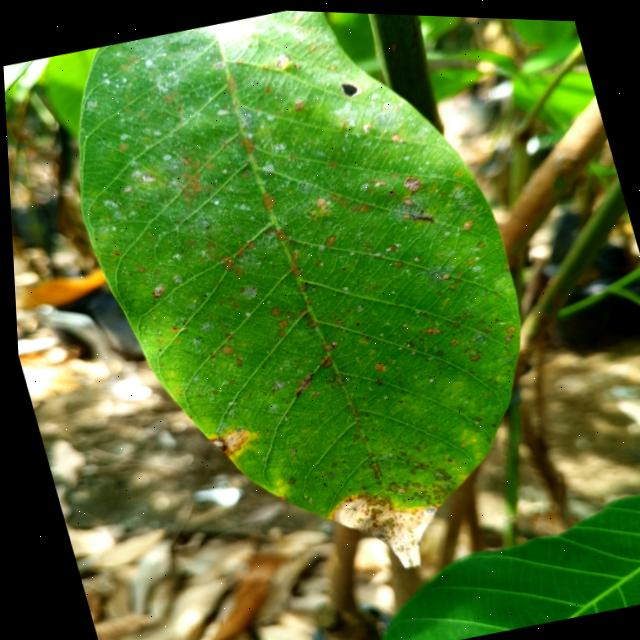Leaf-Blight: (321, 476, 448, 581), (207, 425, 249, 457)
